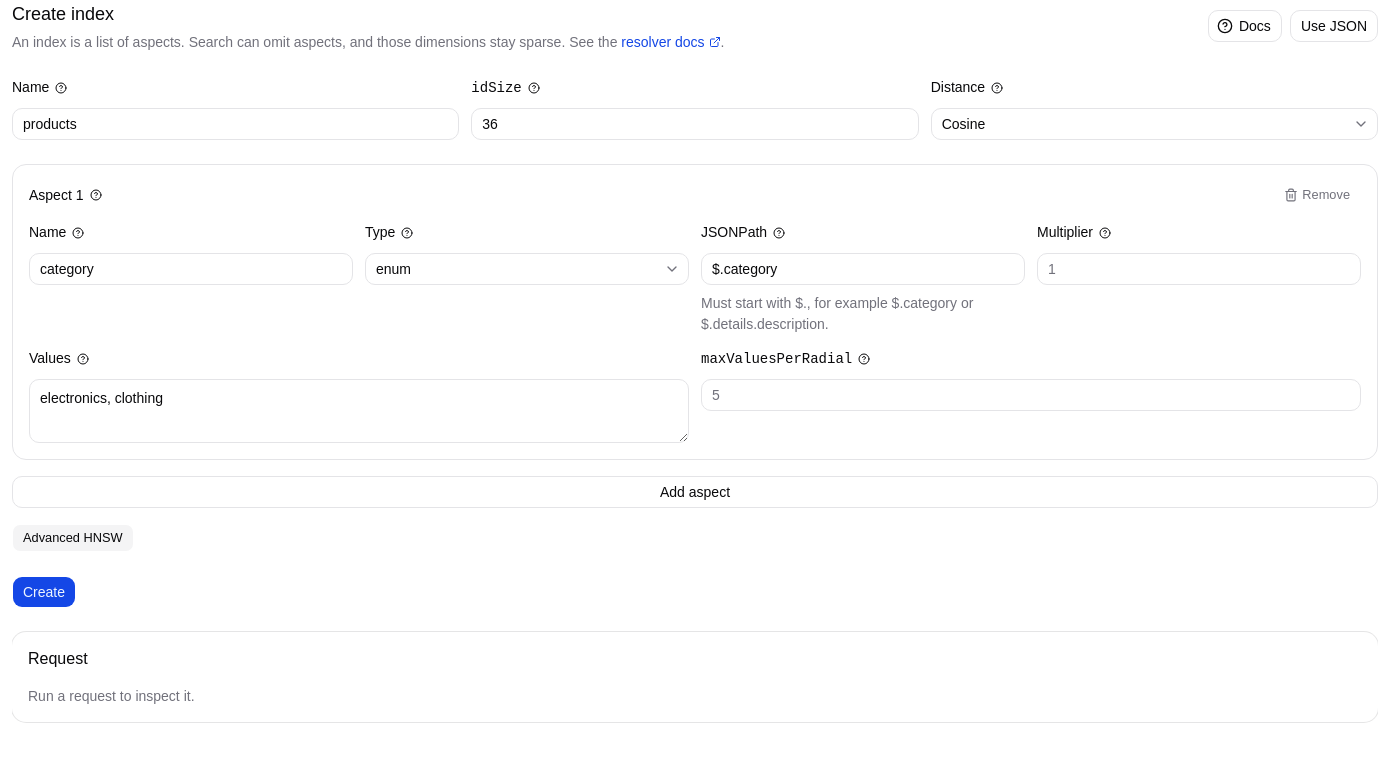
Test: CreateIndexPage › shows an inline error when the index name contains invalid characters
Step 1. Replace the text in the field with id "index-name" with "my index!" → (236, 124), box [12, 108, 459, 140]
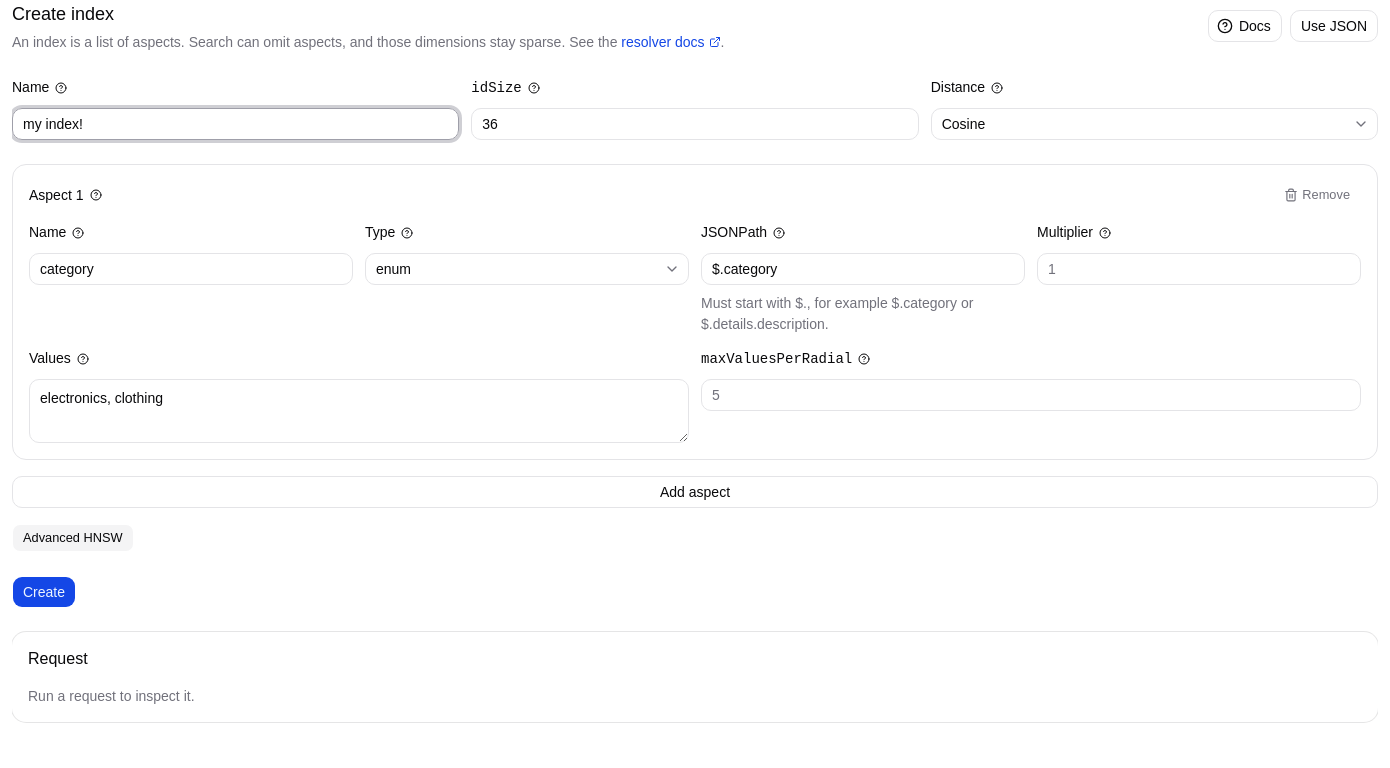
Step 2. Click the button "Create" → (44, 592), box [12, 576, 76, 608]
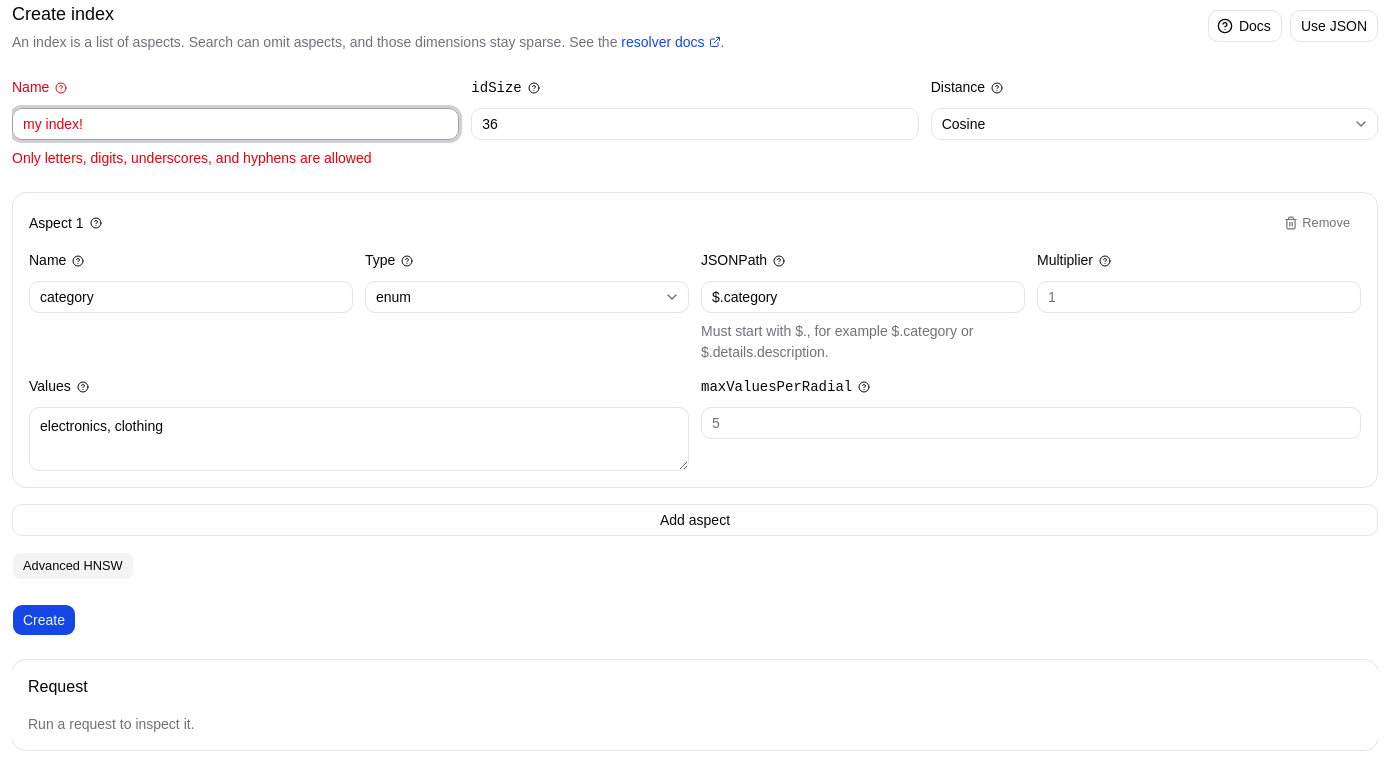
expect the text "Only letters, digits, underscores, and hyphens are allowed" is shown: met, box [12, 150, 372, 166]
